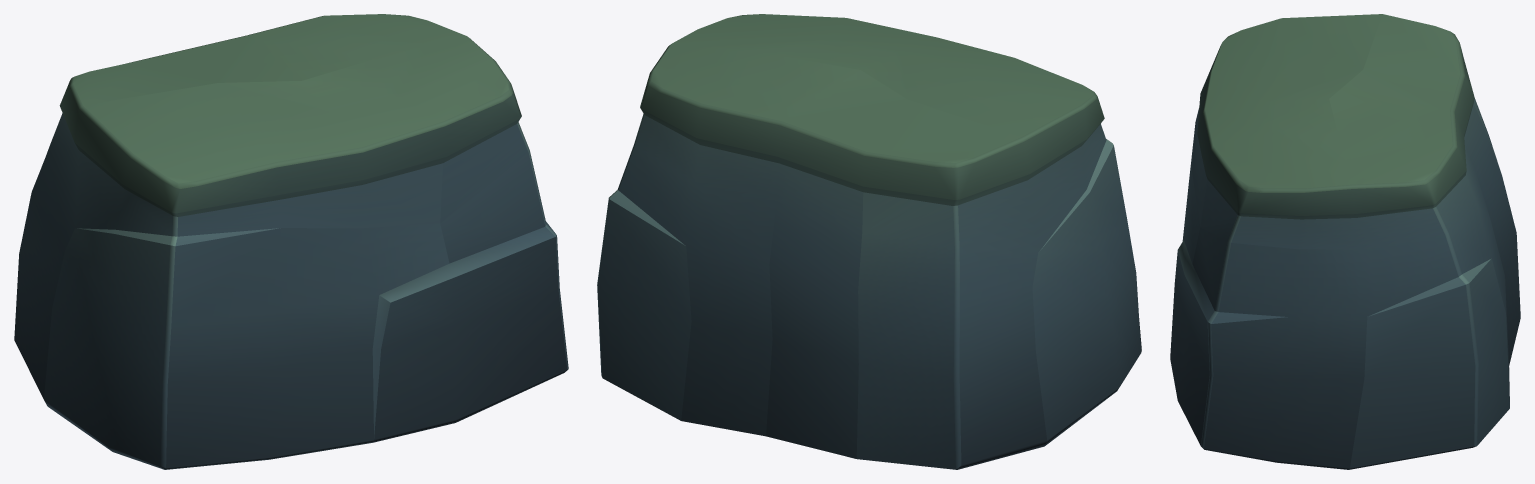
Rendered from rock_large_grass_01.fbx.
3 renders of one model, left to right at view 1: azimuth 30°, elevation 25°; view 2: azimuth 150°, elevation 25°; view 3: azimuth 270°, elevation 25°, orthographic. The views are drawn at different scales.
Visible parts, largest first — view 1: rock_large_grass_01; view 2: rock_large_grass_01; view 3: rock_large_grass_01.
Boxes of the visible parts, x1,y1,x2,y2 form: rock_large_grass_01: (14,14,568,469); rock_large_grass_01: (597,14,1141,469); rock_large_grass_01: (1170,14,1520,469).
Bounding box in the file's own units: 2528 × 1737 × 1925.
